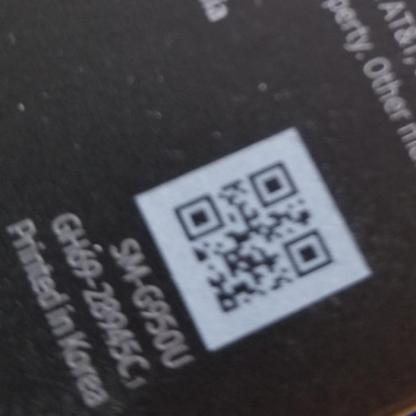qr: (173, 159, 342, 323)
